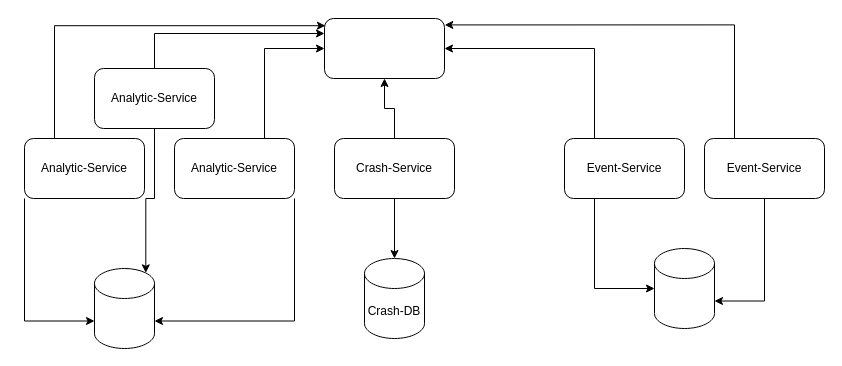
Image size: 842x366. Some labels were removed from this diagram. The centre of each missing label's shape, as x and y in pixels:
"Analytic-DB" belongs at point 124,308.
"Core-Service" belongs at point 384,48.
"Event-DB" belongs at point 684,288.
